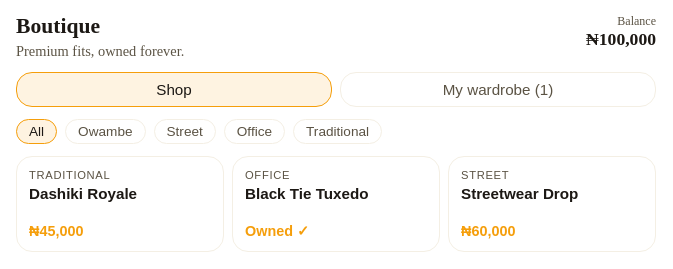
BoutiqueApp shop › filters by occasion chips
This screenshot has width=673, height=269.
Expected: the text "Dashiki Royale" is shown, [29,185,137,202]
Click the button "Office": x=254, y=132 [224,119,285,144]
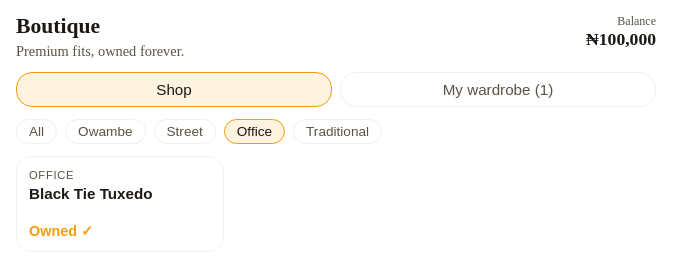
Expected: the text "Black Tie Tuxedo" is shown, [29,185,152,202]
Expected: the button "Dashiki Royale" is gone
Click the button "All": x=37, y=132 [16,119,57,144]
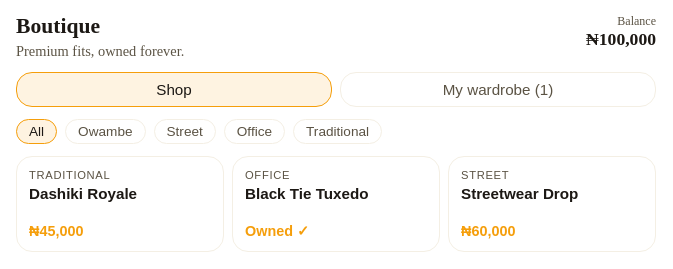
Expected: the text "Dashiki Royale" is shown, [29,185,137,202]
